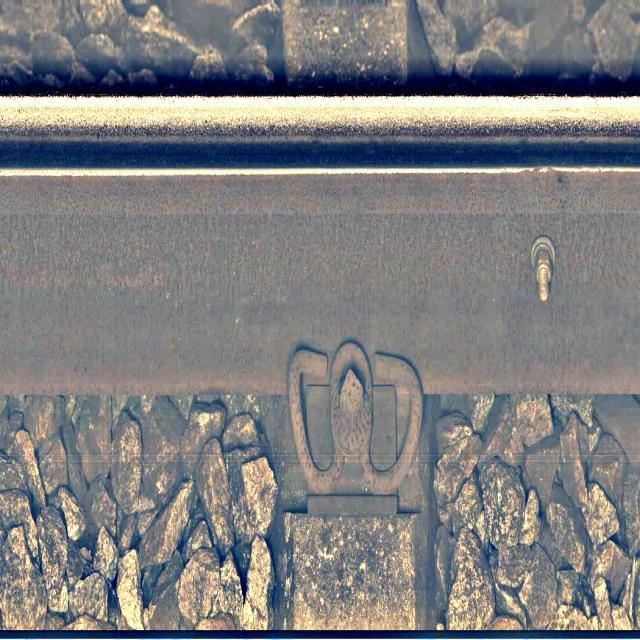Good Fasteners: (290, 340, 422, 513)
